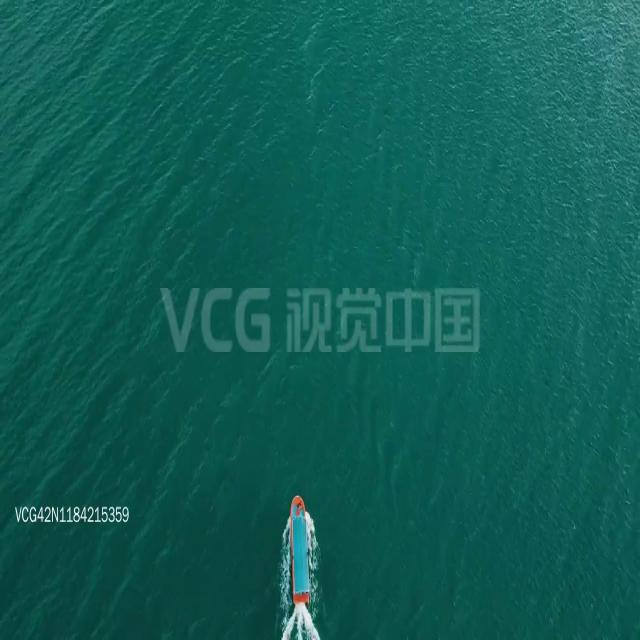houseboat: (282, 485, 317, 606)
